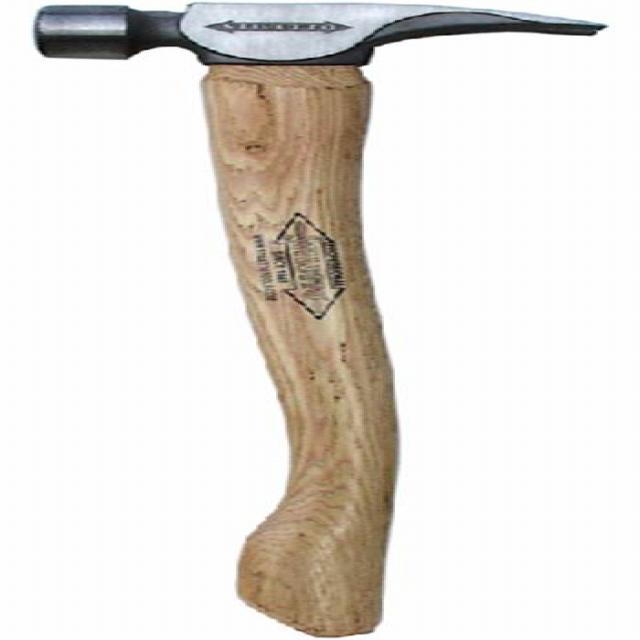hammer: (23, 0, 622, 640)
